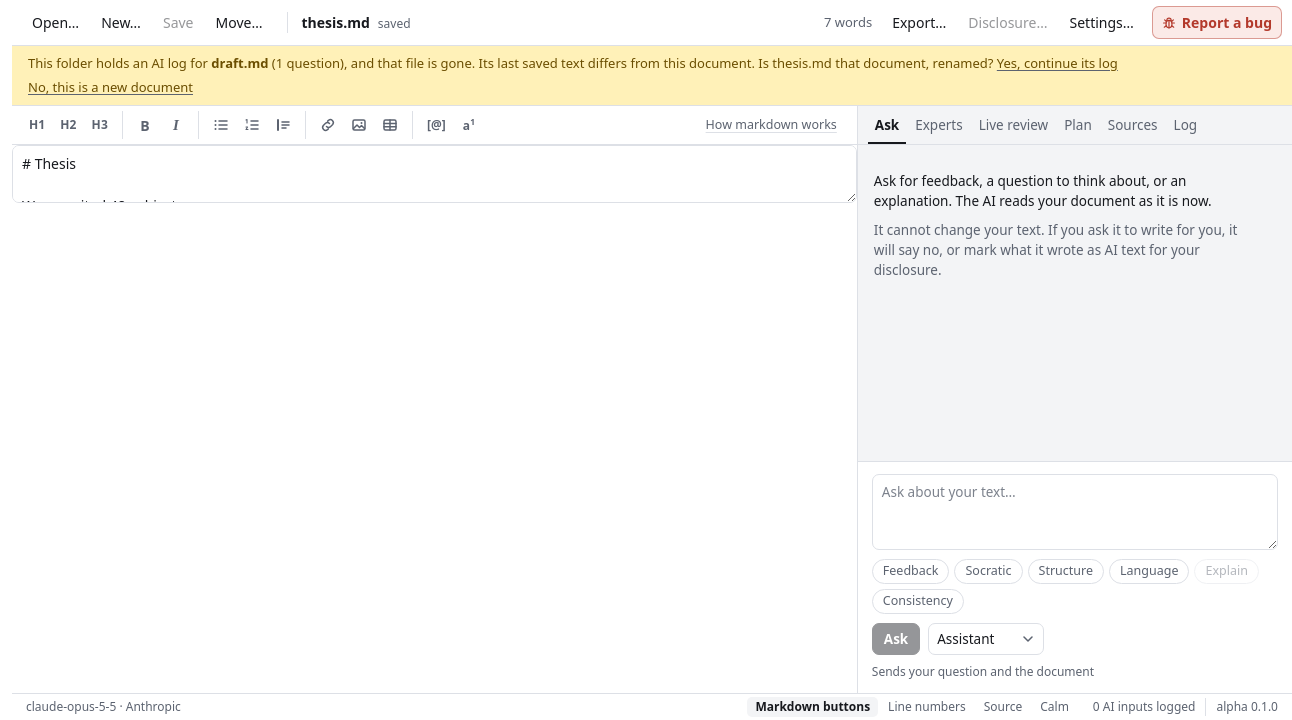
Test: saying no to the old log leaves it alone, and moving sends the text as it is in the editor
The image size is (1292, 720).
Expected: the text "thesis.md" is shown, [302,13,370,32]
Expected: the text "This folder holds an AI log for" shows "Its last saved text differs from this document.", [479,54,755,72]
Click the button "No, this is a new document": (110, 87) [28,78,193,97]
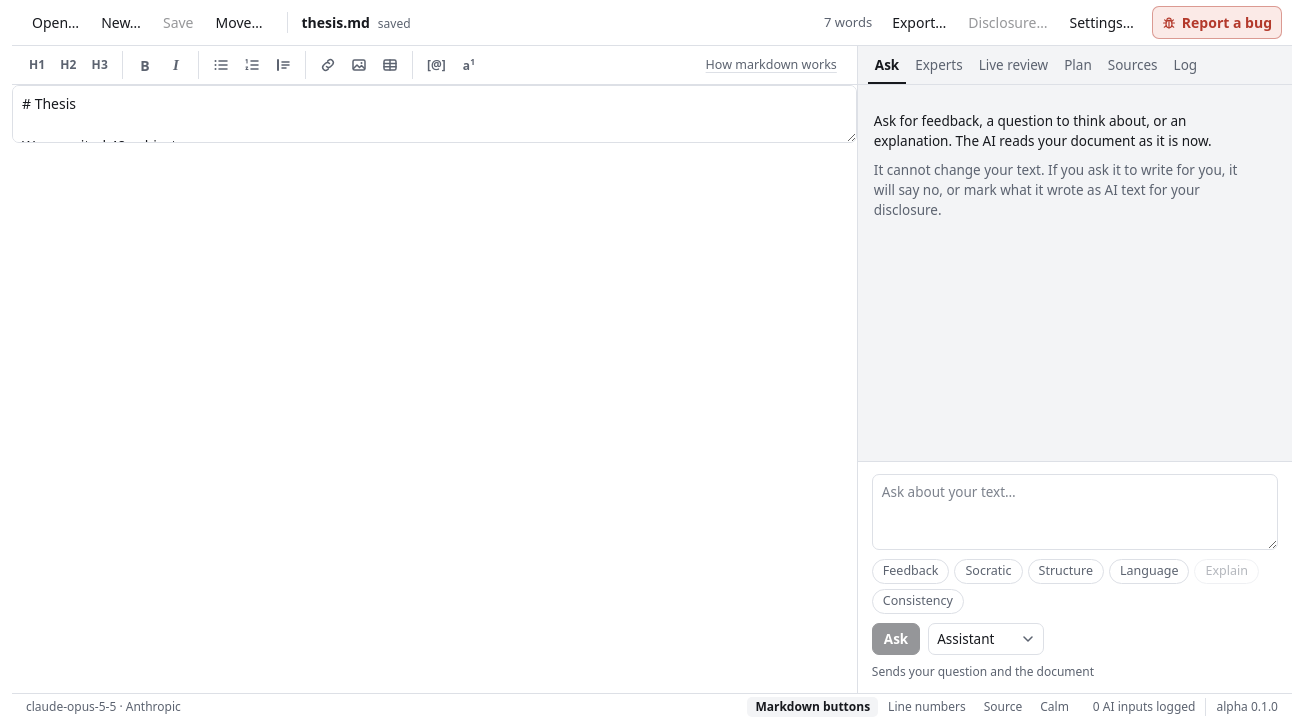
Expected: the text "This folder holds an AI log for" is gone
In the text box named "Document": (434, 114) [12,85,857,143], type " Not saved yet."
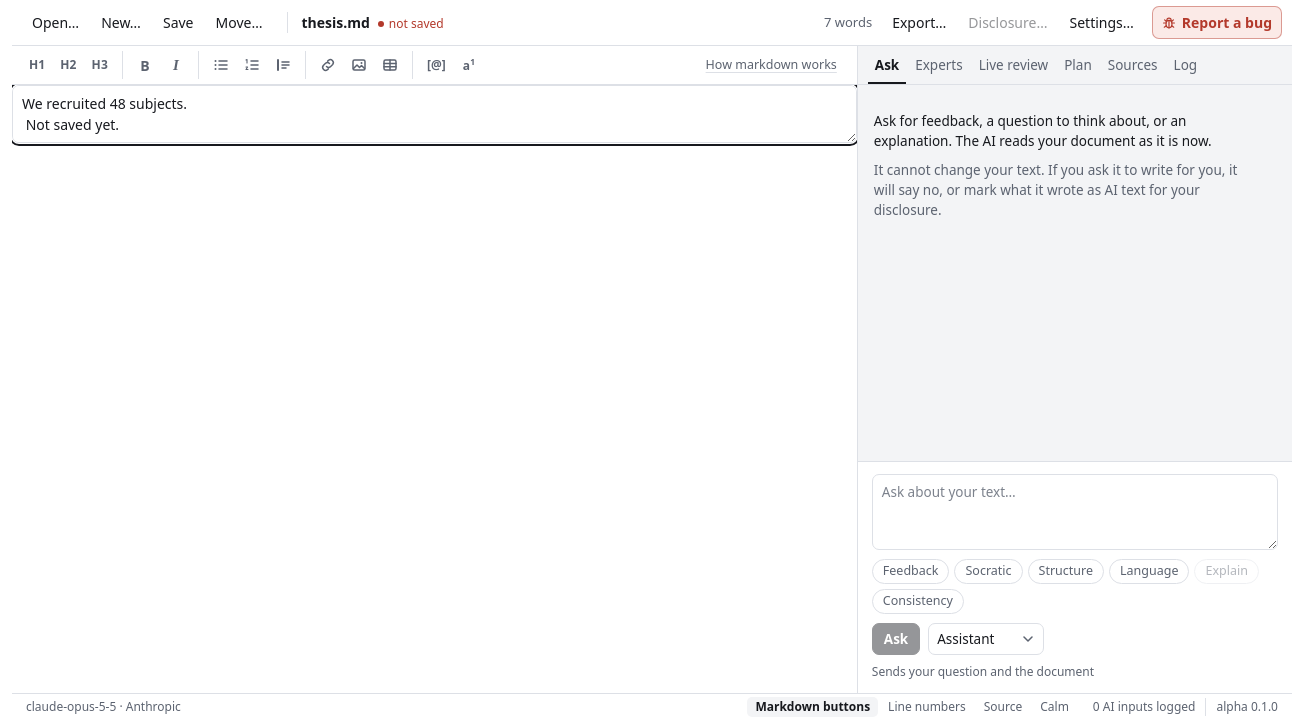
Click the button "Move…": (239, 22) [206,6,272,39]
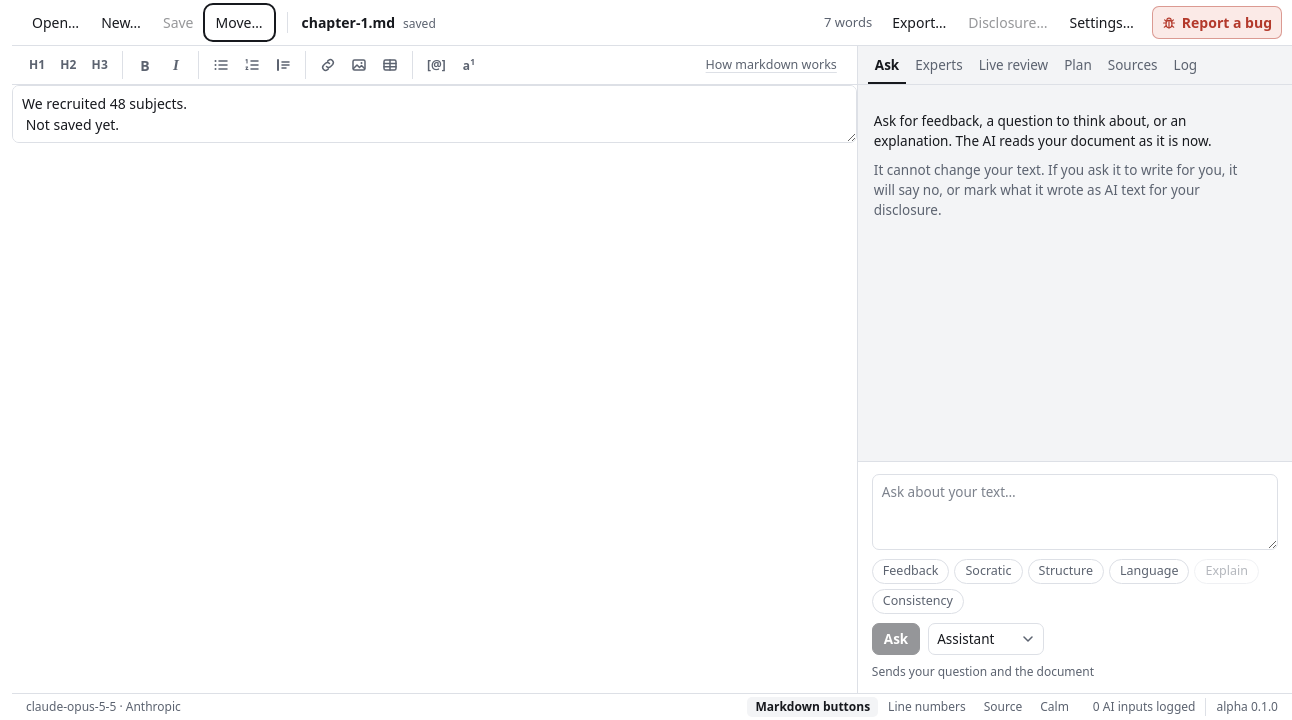
Expected: the text "saved" is shown, [403,15,436,32]
Expected: the text "chapter-1.md" is shown, [302,13,395,32]
